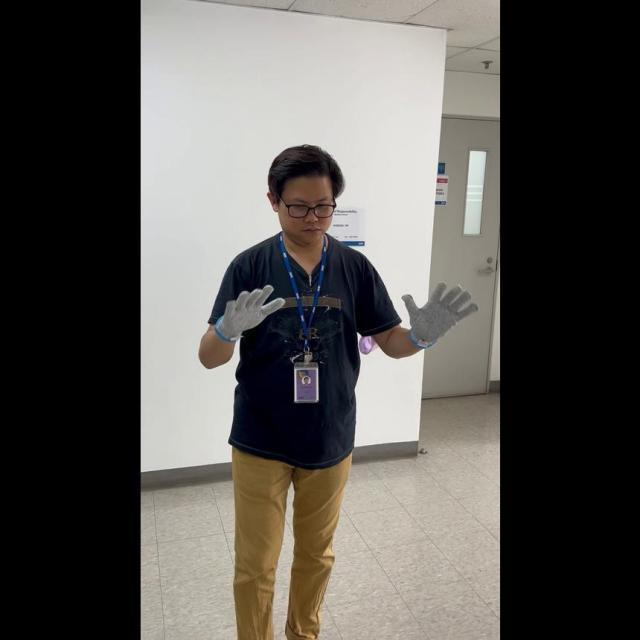gloved_hand: (399, 276, 476, 346), (213, 278, 285, 345)
